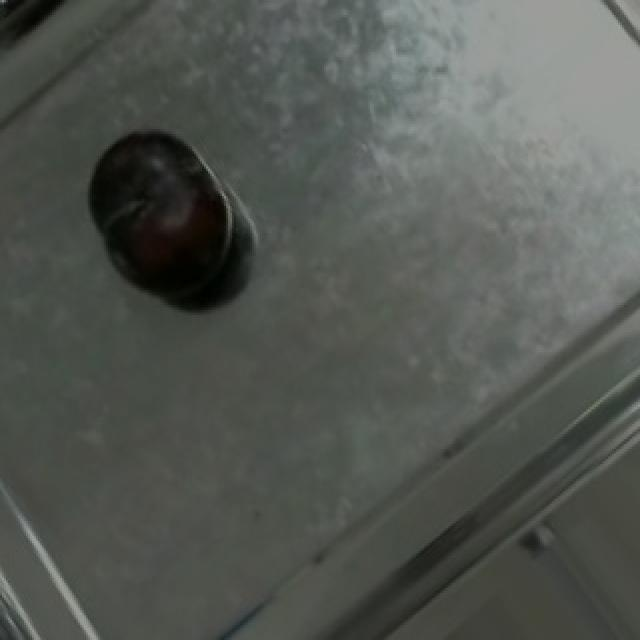Fruit: (68, 112, 250, 310)
